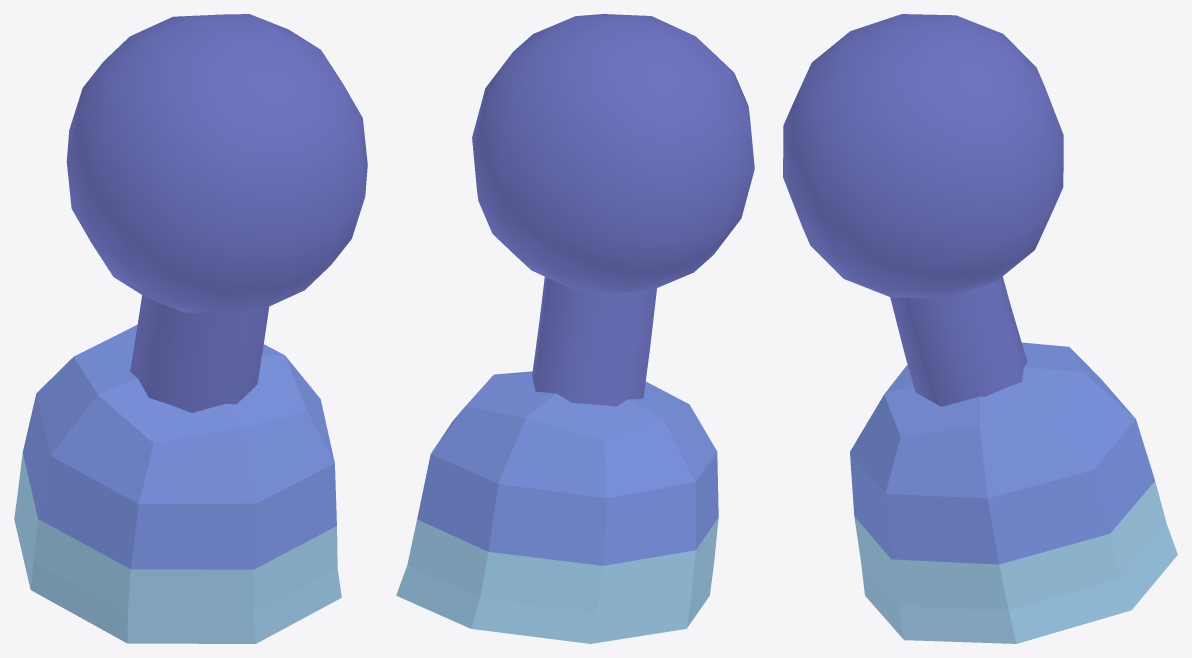
Rendered from antenna.glb.
3 views of the same model, side by side, from view 1: azimuth 30°, elevation 25°; view 2: azimuth 150°, elevation 25°; view 3: azimuth 270°, elevation 25° (orthographic). The views are drawn at different scales.
Visible parts, largest first — view 1: top.025, top.010, top.005; view 2: top.025, top.010, top.005; view 3: top.025, top.010, top.005.
Boxes of the visible parts, bbox=[...] form: top.025: bbox=[14, 324, 341, 643]; top.010: bbox=[66, 14, 367, 312]; top.005: bbox=[130, 295, 269, 412]; top.025: bbox=[396, 371, 718, 643]; top.010: bbox=[472, 14, 754, 292]; top.005: bbox=[532, 277, 656, 406]; top.025: bbox=[850, 342, 1177, 643]; top.010: bbox=[783, 14, 1063, 298]; top.005: bbox=[890, 276, 1027, 406].
Bounding box in the file's own units: 0.4795 × 0.9361 × 0.5951.
